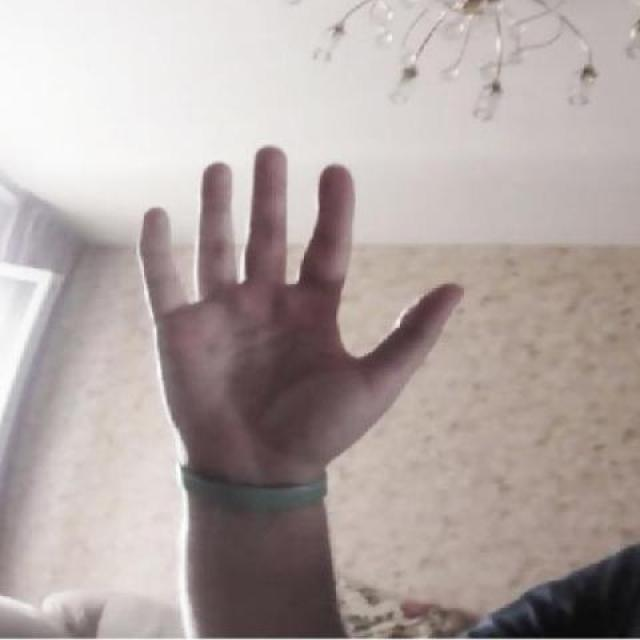Open Hand: (116, 136, 465, 532)
